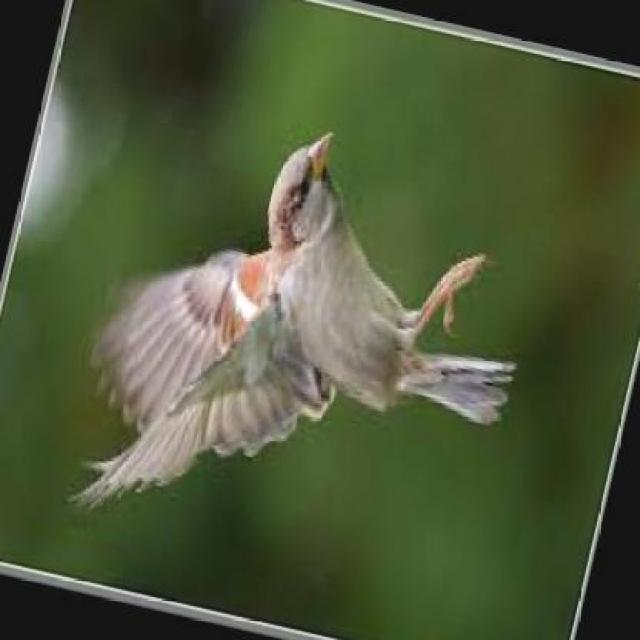Bird: (75, 122, 537, 495)
